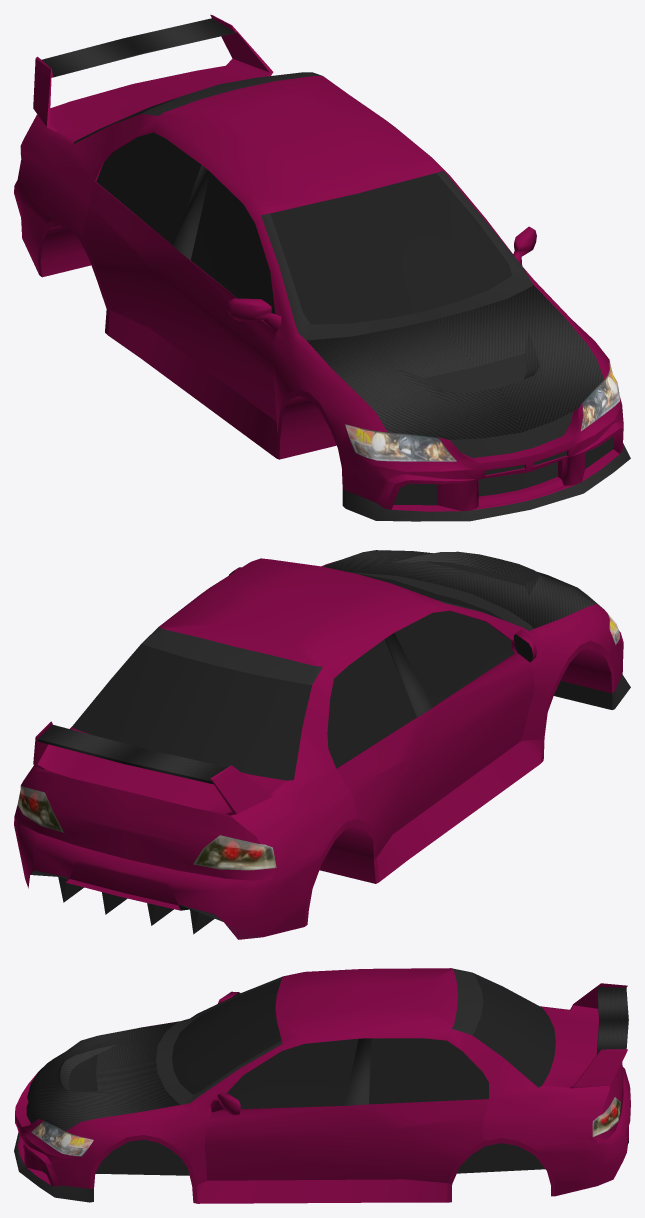
Rendered from ModernRallyVer2.fbx.
3 renders of one model, top to bottom at view 1: azimuth 30°, elevation 25°; view 2: azimuth 150°, elevation 25°; view 3: azimuth 270°, elevation 25°, orthographic. The views are drawn at different scales.
Visible parts, largest first — view 1: Plane; view 2: Plane; view 3: Plane.
Part boxes in pixels (x1,y1,x2,y2): Plane: (14, 14, 630, 521); Plane: (14, 550, 630, 939); Plane: (14, 968, 630, 1203).
Bounding box in the file's own units: 131 × 86.78 × 304.
